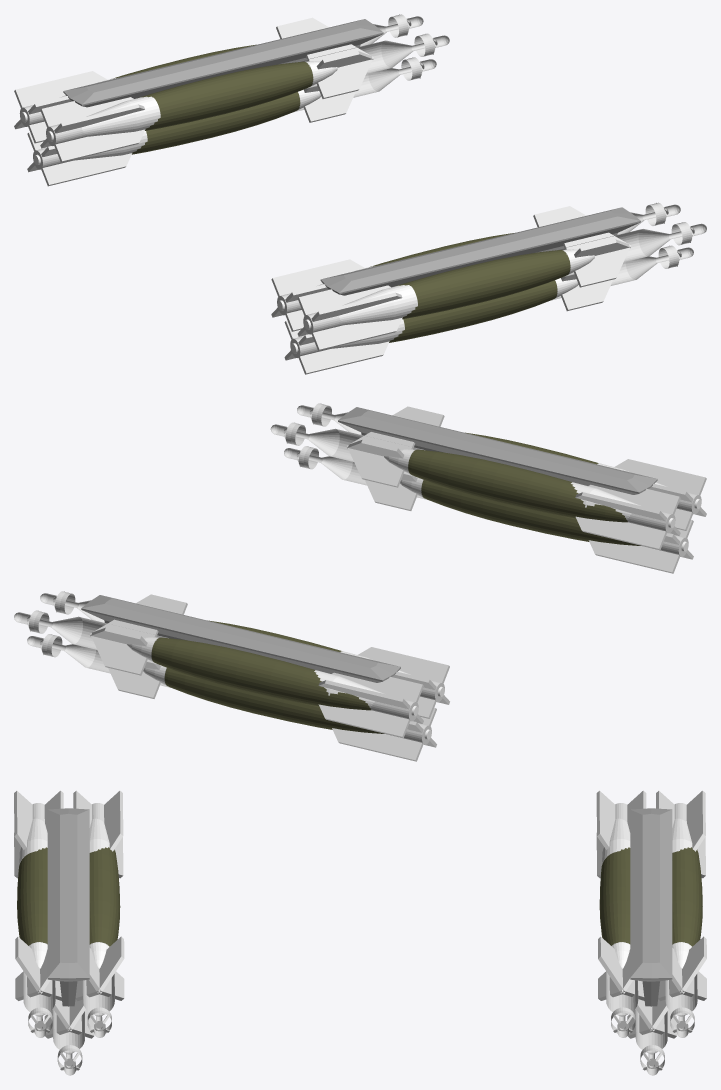
The model's file is f16gbu1223.glb.
The picture shows the model from 3 angles, top to bottom: view 1: azimuth 30°, elevation 25°; view 2: azimuth 150°, elevation 25°; view 3: azimuth 270°, elevation 25°; orthographic projection. The views are drawn at different scales.
Parts seen in each view (by area): view 1: 円柱.011, 円柱.008, 円柱.010, 円柱.013, 立方体.003, 立方体.004, 円柱.009, 円柱.012; view 2: 円柱.009, 円柱.012, 円柱.010, 円柱.013, 立方体.003, 立方体.004, 円柱.008, 円柱.011; view 3: 円柱.009, 円柱.012, 円柱.011, 立方体.004, 立方体.003, 円柱.008, 円柱.010, 円柱.013.
Part boxes in pixels (x1,y1,x2,y2): 円柱.011: (40,33,449,162); 円柱.008: (297,222,706,350); 円柱.010: (284,245,693,374); 円柱.013: (27,57,436,186); 立方体.003: (320,207,640,295); 立方体.004: (63,19,383,107); 円柱.009: (271,202,680,331); 円柱.012: (14,14,423,143); 円柱.009: (270,422,680,549); 円柱.012: (14,610,423,737); 円柱.010: (284,446,693,573); 円柱.013: (27,634,436,761); 立方体.003: (338,407,657,494); 立方体.004: (81,595,400,682); 円柱.008: (297,403,706,530); 円柱.011: (40,591,449,718); 円柱.009: (73,790,124,1037); 円柱.012: (656,790,706,1037); 円柱.011: (596,790,646,1037); 立方体.004: (630,808,672,1006); 立方体.003: (47,808,89,1006); 円柱.008: (14,790,63,1037); 円柱.010: (44,999,94,1075); 円柱.013: (627,999,677,1075).
Bounding box in the file's own units: 3.82 × 0.7094 × 5.05.
4 materials, 1 textured.
